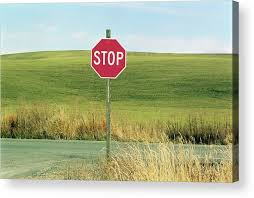Stop: (88, 35, 131, 87)
